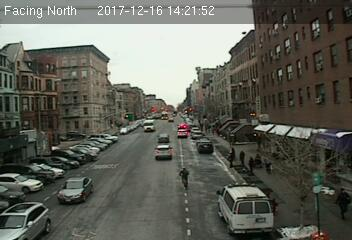bicycle: (179, 167, 191, 190)
car: (58, 176, 92, 203), (154, 144, 172, 159), (197, 140, 213, 154), (176, 128, 187, 137)
police: (215, 180, 275, 234)
